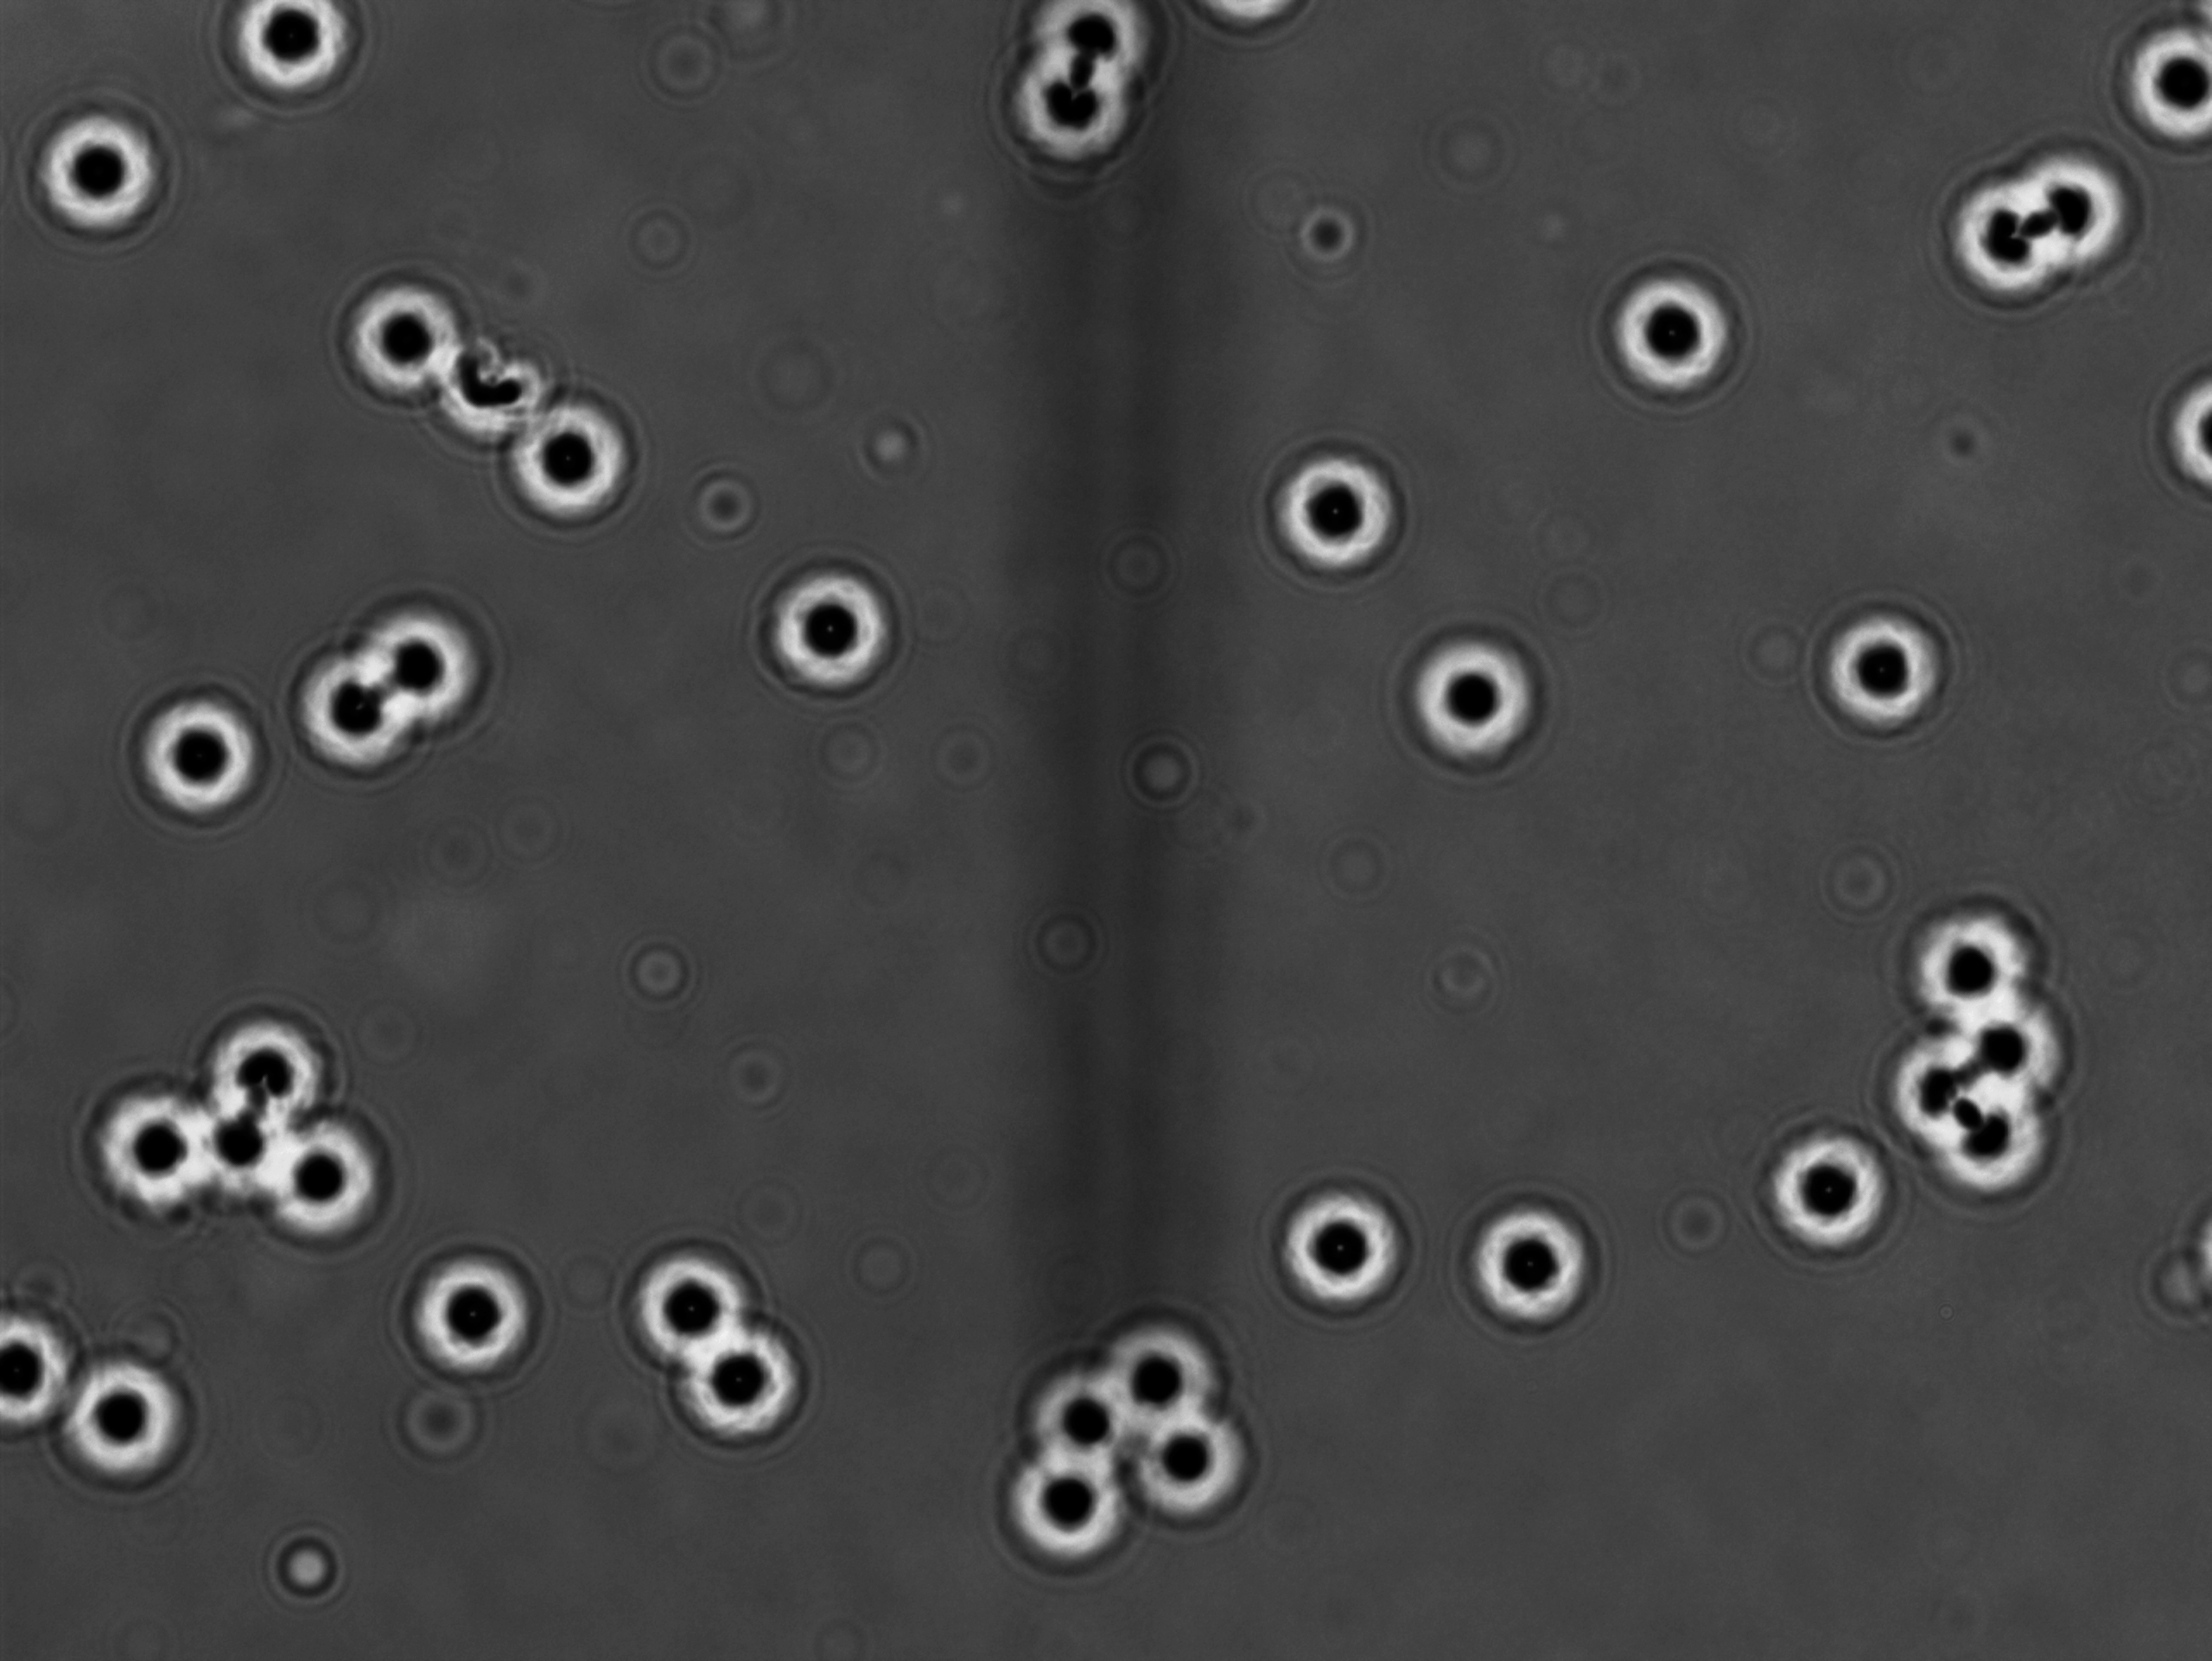depth:-20: (1446, 1165, 1612, 1354), (112, 673, 293, 844), (1575, 249, 1755, 414), (1889, 892, 2071, 1054), (35, 1335, 208, 1504), (1382, 619, 1558, 785), (394, 1234, 558, 1408), (1256, 1169, 1429, 1333), (492, 377, 654, 544), (1807, 590, 1978, 748), (1751, 1117, 1915, 1281), (619, 1228, 790, 1384), (1254, 426, 1415, 590), (755, 546, 914, 710), (68, 1068, 234, 1225), (283, 630, 438, 787), (195, 989, 354, 1139), (345, 572, 508, 719), (16, 99, 173, 248), (654, 1328, 818, 1462), (319, 265, 478, 403), (255, 1124, 389, 1251), (2116, 3, 2212, 154)
